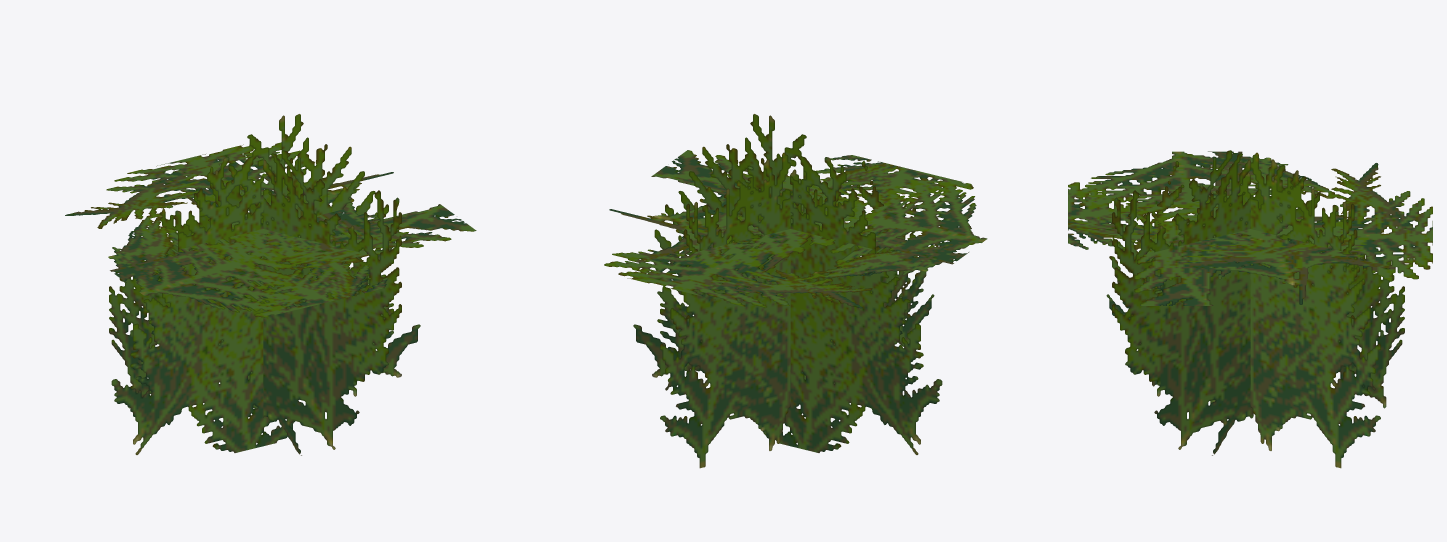
Rendered from bush_02_far.glb.
The picture shows the model from 3 angles, left to right: view 1: azimuth 30°, elevation 25°; view 2: azimuth 150°, elevation 25°; view 3: azimuth 270°, elevation 25°; orthographic projection.
Visible parts, largest first — view 1: env; view 2: env; view 3: env.
Boxes of the visible parts, bbox=[...] form: env: bbox=[65, 114, 476, 455]; env: bbox=[604, 114, 987, 468]; env: bbox=[1068, 150, 1432, 468].
Size of the model in its own units: 1.15 by 1.15 by 1.09.
1 material, 1 textured.
